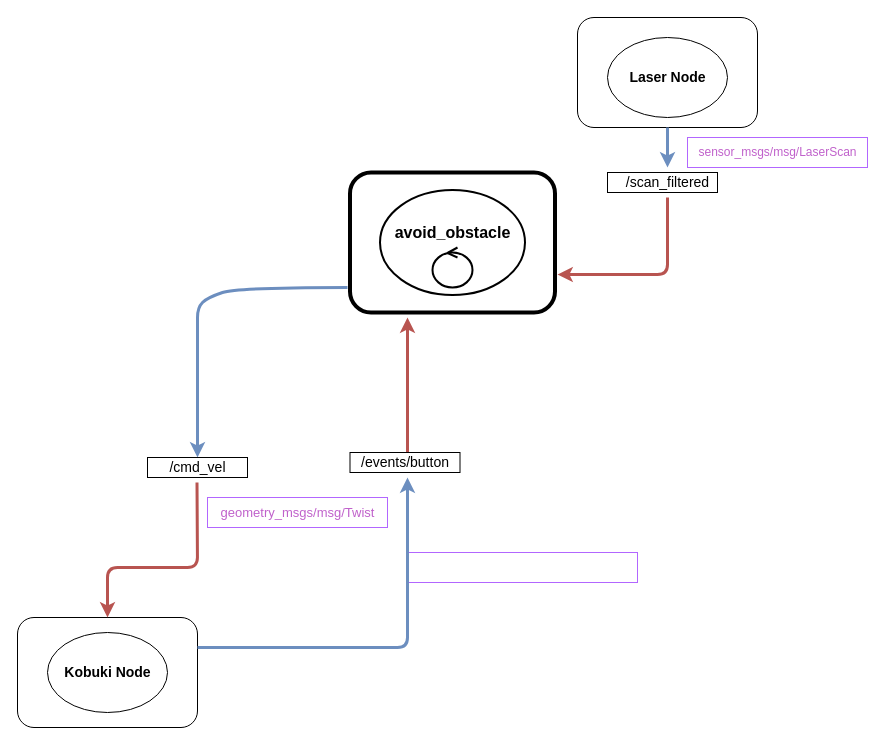
Some shapes in this 885 by 745 pixel diagram are drawn without their labels. Here are the shapes that lost their labels. From the top down, the centre of each, then its label:
At (452,267): "40 HZ".
At (522,567): "kobuki_ros_interfaces/msg/ButtonEvent".
